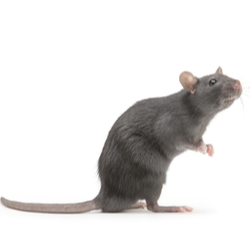Rat: (80, 66, 246, 221)
